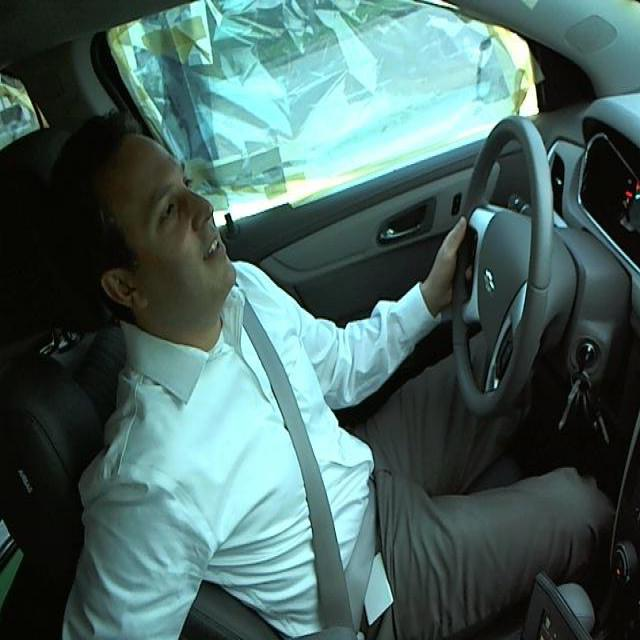seatbelt: (243, 317, 379, 628)
